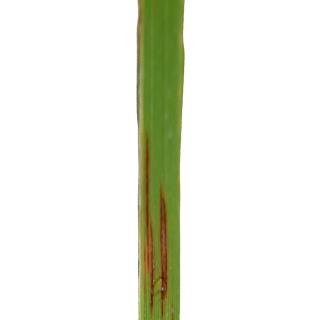Bercak-Cokelat-Sempit: (142, 128, 158, 320), (158, 180, 168, 318)
